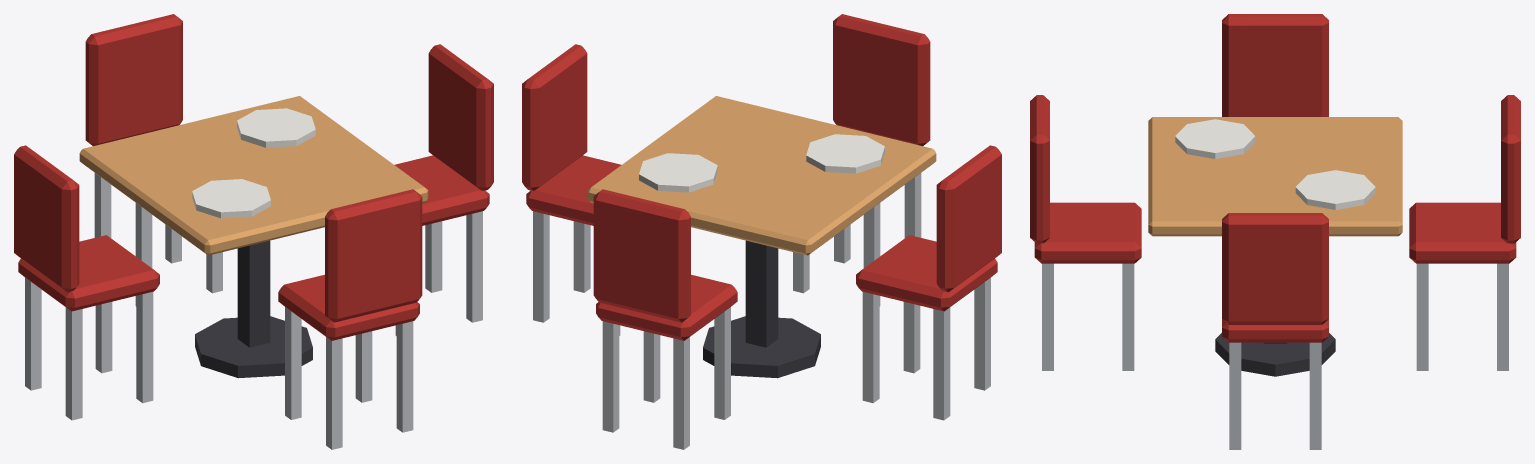
The model's file is RestaurantTable4.fbx.
The picture shows the model from 3 angles, left to right: view 1: azimuth 30°, elevation 25°; view 2: azimuth 150°, elevation 25°; view 3: azimuth 270°, elevation 25°; orthographic projection.
Visible parts, largest first — view 1: RestaurantTable4; view 2: RestaurantTable4; view 3: RestaurantTable4.
Part boxes in pixels (x1=…): RestaurantTable4: x1=14, y1=14, x2=493, y2=449; RestaurantTable4: x1=522, y1=14, x2=1001, y2=449; RestaurantTable4: x1=1030, y1=14, x2=1520, y2=449.
Size of the model in its own units: 7.34 by 3.9 by 7.34.
1 material, 1 textured.
